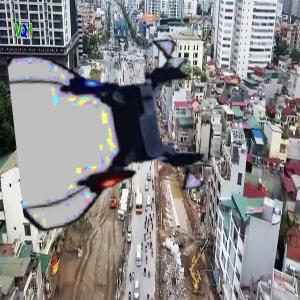drone: (16, 33, 211, 228)
